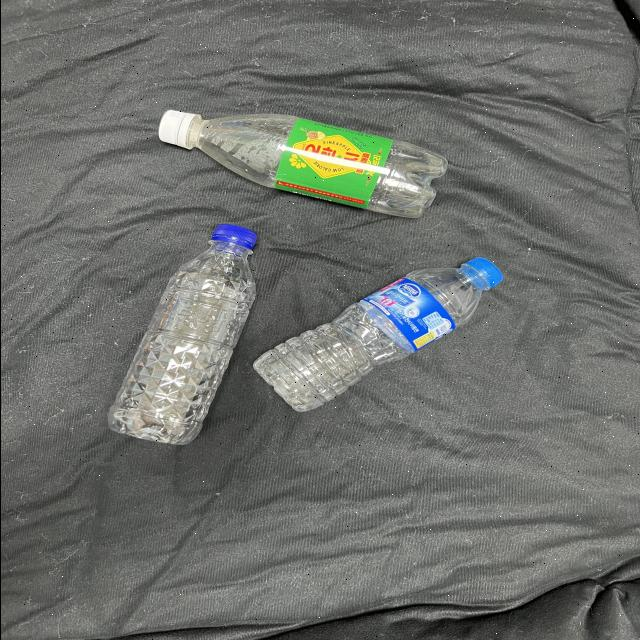plastic: (235, 239, 527, 431), (86, 209, 288, 474), (130, 82, 464, 234)
